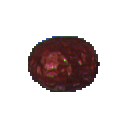gd: (24, 24, 117, 110)
